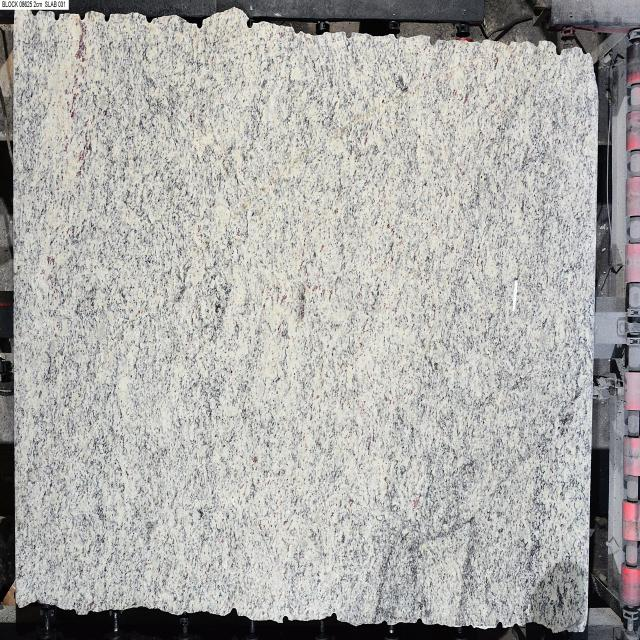chapa: (14, 10, 598, 632)
